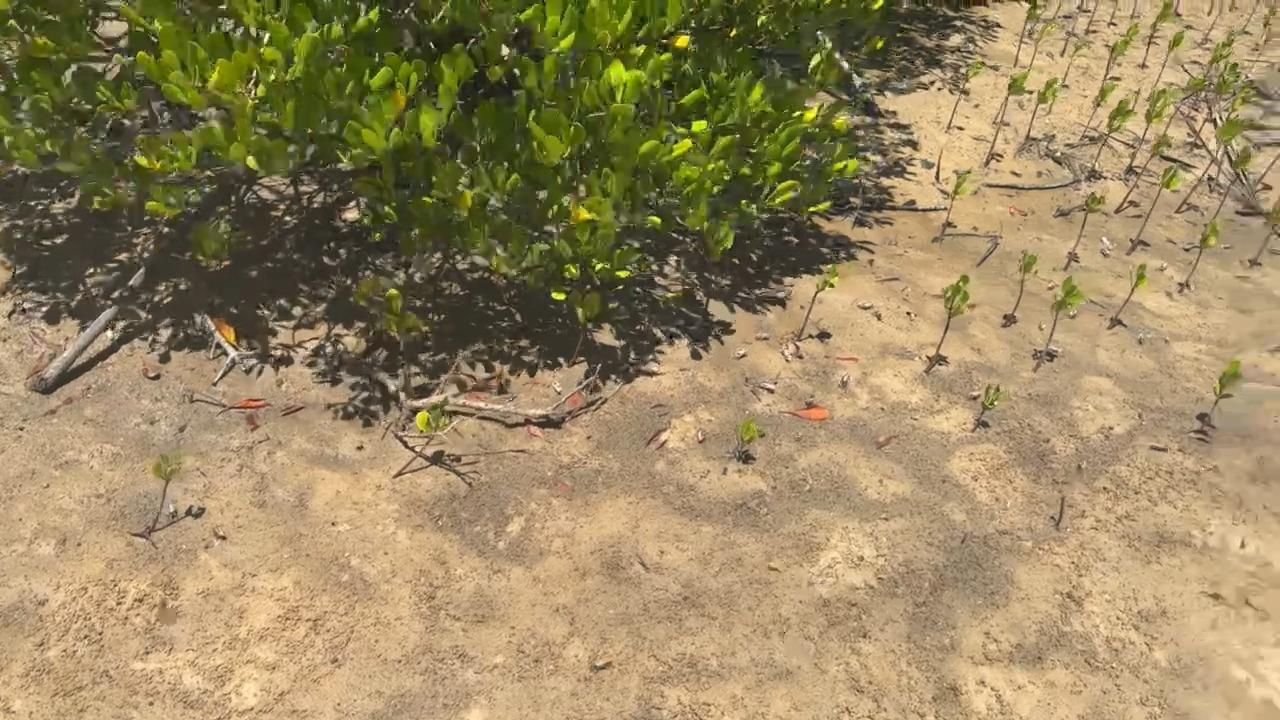Tree: (1174, 117, 1251, 213), (1032, 275, 1089, 373), (1125, 164, 1185, 256), (1114, 134, 1174, 214), (1189, 61, 1241, 153), (924, 274, 970, 373), (1124, 87, 1175, 176), (1185, 28, 1236, 117), (984, 71, 1030, 167), (392, 409, 448, 480), (1093, 23, 1140, 105), (1063, 192, 1106, 272), (1178, 218, 1222, 294), (1091, 99, 1138, 170), (797, 261, 839, 340), (1209, 145, 1252, 221), (1200, 360, 1242, 431), (1162, 76, 1212, 135), (1001, 249, 1037, 329), (1107, 263, 1149, 330), (946, 60, 984, 130), (150, 453, 181, 532), (1080, 81, 1118, 141), (1141, 0, 1174, 69), (1024, 77, 1059, 142), (1023, 21, 1062, 79), (1248, 198, 1280, 268), (940, 171, 972, 237), (1244, 150, 1280, 207), (1152, 31, 1184, 88), (1013, 0, 1039, 68), (1061, 38, 1096, 85), (970, 383, 1001, 433), (1061, 0, 1084, 56), (993, 85, 1025, 125), (1198, 0, 1224, 48), (1224, 88, 1256, 120), (735, 420, 757, 461), (1028, 0, 1048, 38), (1241, 0, 1261, 33), (1085, 0, 1097, 35), (1107, 0, 1118, 29), (935, 147, 943, 182), (1053, 0, 1062, 19), (1131, 0, 1137, 20), (1207, 0, 1214, 16), (1174, 0, 1180, 17), (1229, 0, 1236, 12)
